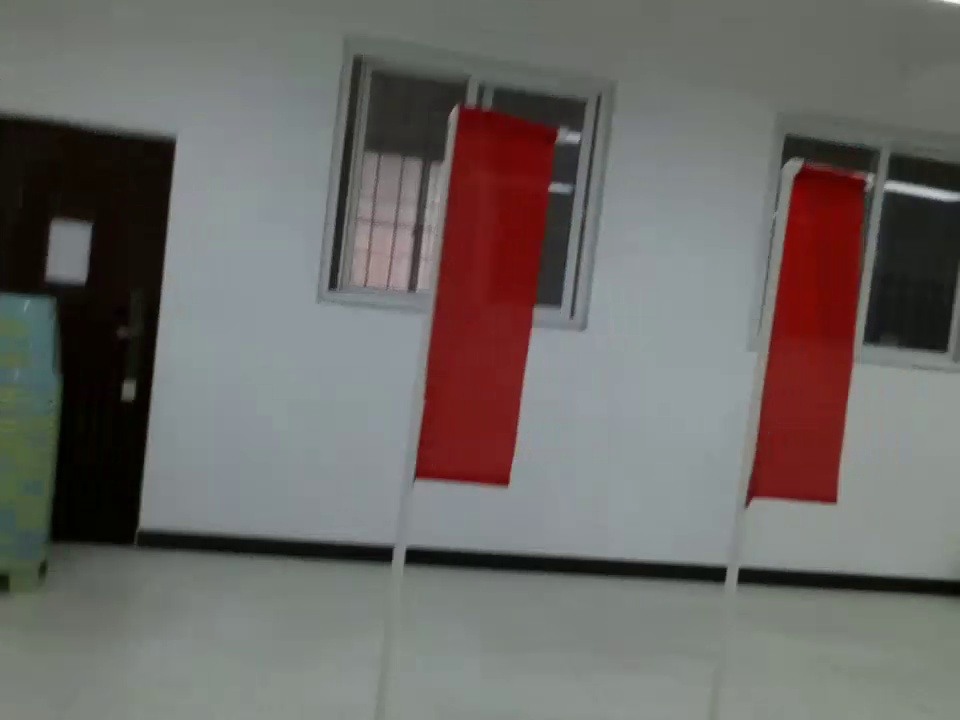qi: (396, 100, 563, 515), (725, 146, 891, 557)
